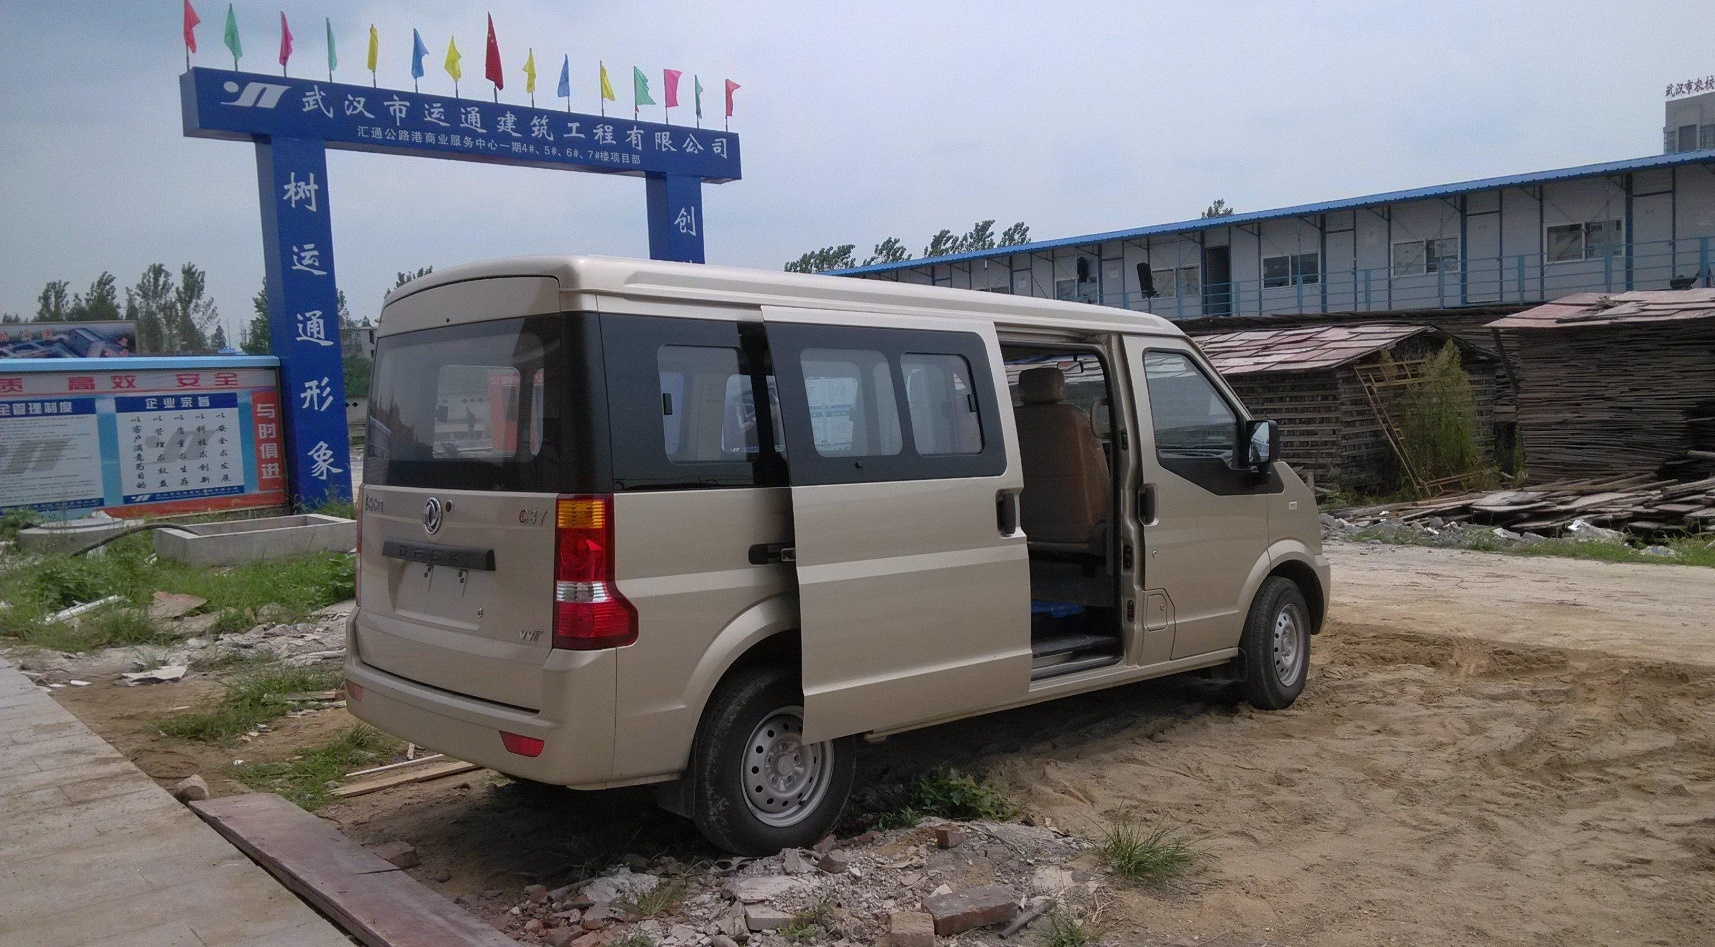minibus: (338, 250, 1356, 837)
